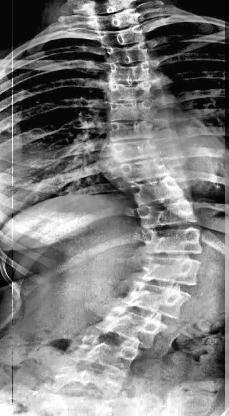Vertebrae: (57, 336, 136, 372), (96, 310, 164, 348), (137, 254, 205, 288), (125, 286, 193, 318), (129, 201, 199, 232), (110, 155, 176, 185), (143, 228, 205, 257), (123, 176, 185, 202), (108, 138, 158, 164), (106, 98, 158, 122), (96, 118, 154, 138), (102, 45, 154, 65), (102, 28, 148, 50), (108, 62, 156, 82), (104, 80, 158, 96)
